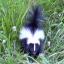skunk: (19, 6, 46, 54)
